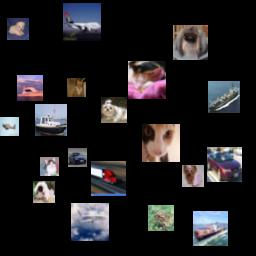airplane: (63, 3, 101, 41), (71, 203, 109, 241), (0, 117, 19, 136)
automobile: (207, 147, 242, 182), (68, 148, 87, 167)
cat: (142, 124, 180, 162), (128, 61, 166, 99), (67, 78, 86, 97), (40, 157, 59, 176)
dog: (173, 25, 208, 60), (101, 97, 127, 123), (182, 165, 204, 187), (33, 181, 55, 203), (7, 18, 29, 40)
frog: (148, 205, 174, 231)
ship: (193, 211, 228, 246), (208, 81, 240, 113), (35, 104, 67, 136), (17, 75, 43, 101)
truck: (91, 161, 126, 196)
